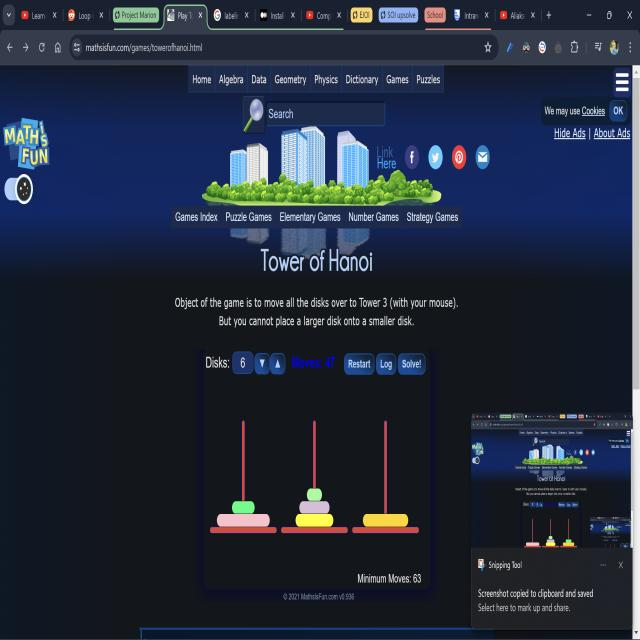disk1: (306, 488, 322, 501)
disk2: (232, 501, 255, 514)
disk3: (299, 501, 330, 514)
disk4: (296, 514, 334, 526)
disk5: (363, 514, 409, 526)
disk6: (218, 514, 270, 527)
